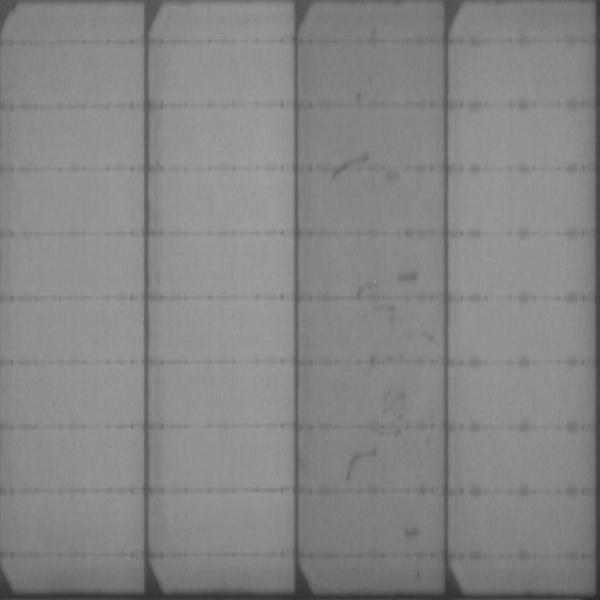scratch: (371, 385, 422, 424), (357, 270, 422, 297), (330, 147, 378, 180), (345, 447, 381, 480)
